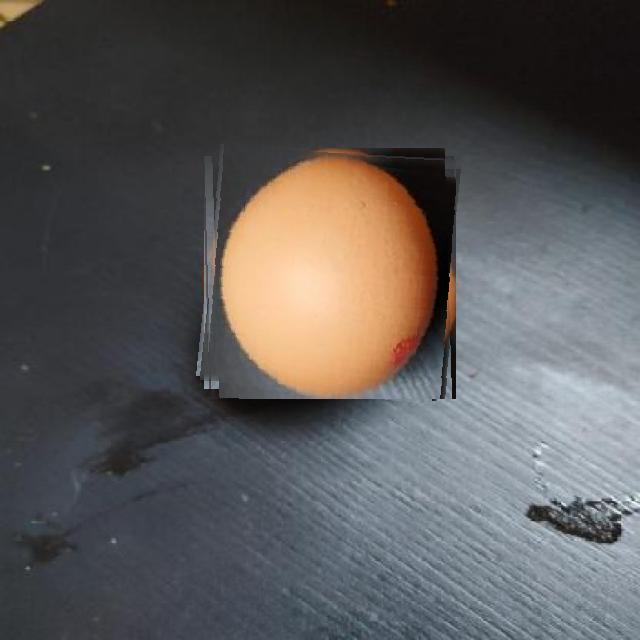biodegradable: (202, 146, 456, 399)
